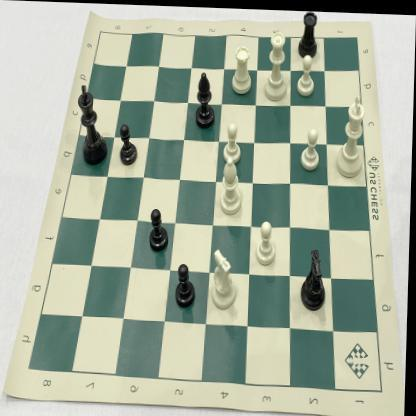black-bishop: (194, 68, 217, 131)
black-king: (74, 81, 111, 168)
black-knight: (296, 244, 331, 315)
black-pawn: (175, 256, 199, 310), (148, 203, 172, 255), (118, 118, 140, 167)
black-rook: (295, 9, 324, 62)
white-bishop: (219, 154, 249, 217)
white-king: (334, 89, 370, 178)
white-knight: (210, 242, 241, 312)
white-pawn: (293, 49, 321, 100), (256, 215, 281, 270), (299, 124, 323, 172), (222, 117, 246, 163)
white-queen: (263, 25, 291, 102)
white-rook: (229, 41, 256, 95)
